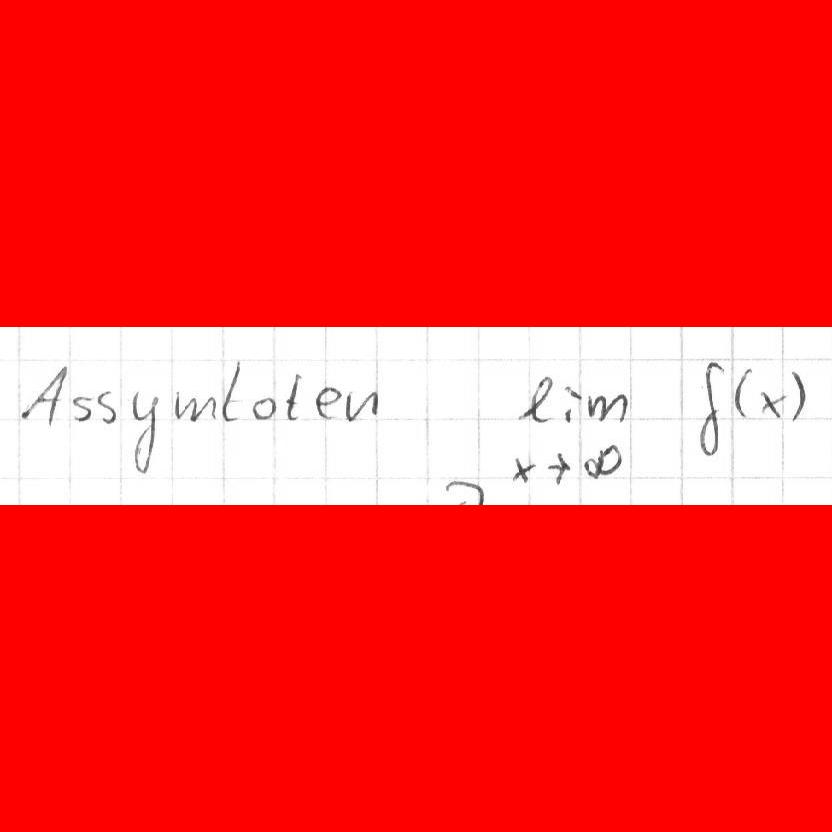Char: (18, 365, 67, 426), (127, 393, 159, 475), (696, 365, 725, 451), (515, 378, 555, 424), (441, 476, 493, 508), (581, 443, 625, 479), (221, 360, 245, 424), (585, 389, 627, 424), (174, 391, 215, 425), (344, 387, 377, 423), (732, 365, 753, 418), (283, 369, 303, 423), (314, 384, 340, 422), (788, 369, 806, 421), (546, 449, 570, 487), (97, 388, 117, 426), (510, 456, 537, 484), (251, 394, 277, 422), (759, 387, 781, 420), (69, 391, 92, 422), (563, 387, 581, 423)
